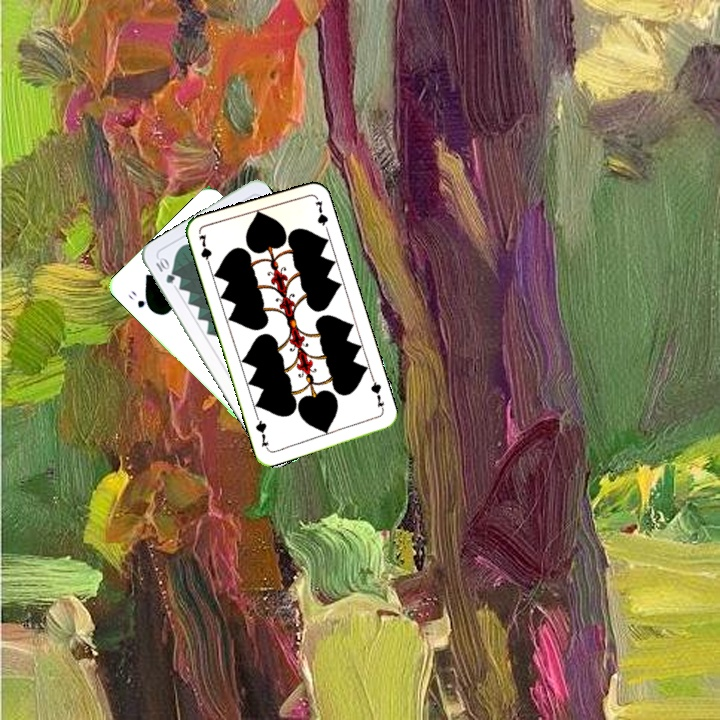G10: (152, 254, 178, 286)
G7: (194, 230, 214, 271), (367, 375, 387, 414)
GO: (124, 286, 156, 315)
